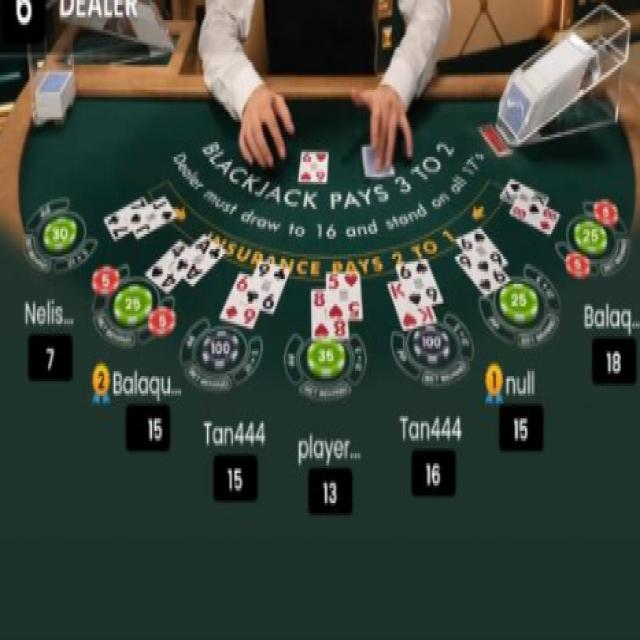Card-4: (146, 240, 189, 294)
Card-5: (327, 272, 362, 323)
Card-6: (221, 272, 259, 331), (396, 259, 442, 303), (298, 149, 328, 180)
Card-7: (104, 192, 150, 244)
Card-8: (312, 288, 347, 339), (511, 201, 559, 233)
Card-9: (245, 261, 290, 318), (457, 226, 508, 273), (455, 253, 509, 294)
Card-A: (174, 233, 224, 286)
Card-J: (127, 194, 175, 237)
Card-K: (388, 281, 435, 329), (499, 177, 550, 212)
